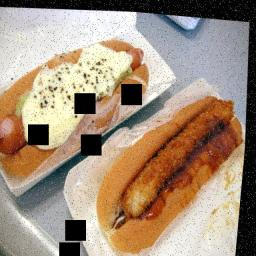hotdog: (94, 75, 252, 256), (0, 24, 159, 190)
